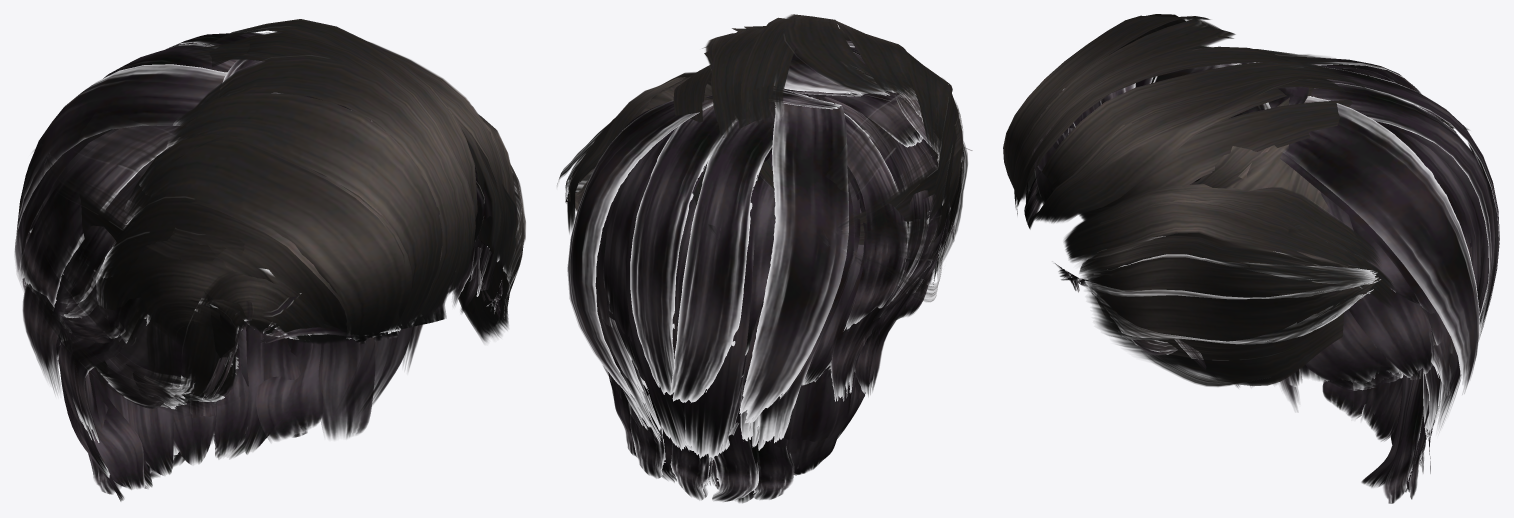
File: CombOver.glb
3 views of the same model, side by side, from view 1: azimuth 30°, elevation 25°; view 2: azimuth 150°, elevation 25°; view 3: azimuth 270°, elevation 25° (orthographic). The views are drawn at different scales.
Visible parts, largest first — view 1: COMB OVER.002, COMB OVER.006, COMB OVER.001, COMB OVER.005, COMB OVER.003; view 2: COMB OVER.006, COMB OVER.005, COMB OVER.002, COMB OVER.001, COMB OVER.004; view 3: COMB OVER.006, COMB OVER.001, COMB OVER.002, COMB OVER.005, COMB OVER.004.
Boxes of the visible parts, x1,y1,x2,y2 form: COMB OVER.002: (97,19,517,388); COMB OVER.006: (16,32,502,500); COMB OVER.001: (20,101,525,412); COMB OVER.005: (14,33,496,500); COMB OVER.003: (458,281,495,342); COMB OVER.006: (568,40,952,502); COMB OVER.005: (568,41,972,502); COMB OVER.002: (702,14,963,272); COMB OVER.001: (557,72,967,320); COMB OVER.004: (673,65,717,234); COMB OVER.006: (1041,57,1499,503); COMB OVER.001: (1064,38,1394,386); COMB OVER.002: (1003,14,1384,222); COMB OVER.005: (1024,62,1499,498); COMB OVER.004: (1078,100,1468,220).
Size of the model in its own units: 0.2169 by 0.241 by 0.2483.
Materials: 2 (2 with a texture image).
